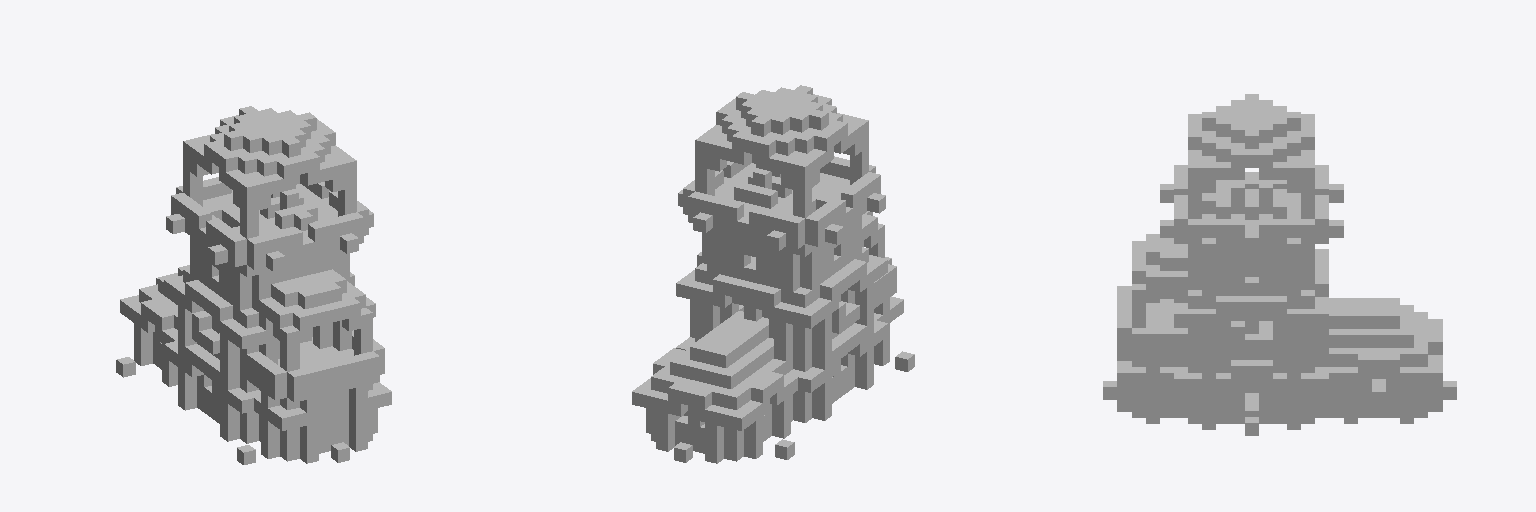
File: base_plate3.obj
3 renders of one model, left to right at view 1: azimuth 30°, elevation 25°; view 2: azimuth 150°, elevation 25°; view 3: azimuth 270°, elevation 25°, orthographic.
Visible parts, largest first — view 1: base_plate3; view 2: base_plate3; view 3: base_plate3.
Part boxes in pixels (left/top/right/bottom): base_plate3: left=116, top=106, right=391, bottom=464; base_plate3: left=632, top=85, right=914, bottom=463; base_plate3: left=1103, top=94, right=1456, bottom=435.
Bounding box in the file's own units: 13 × 22 × 25.